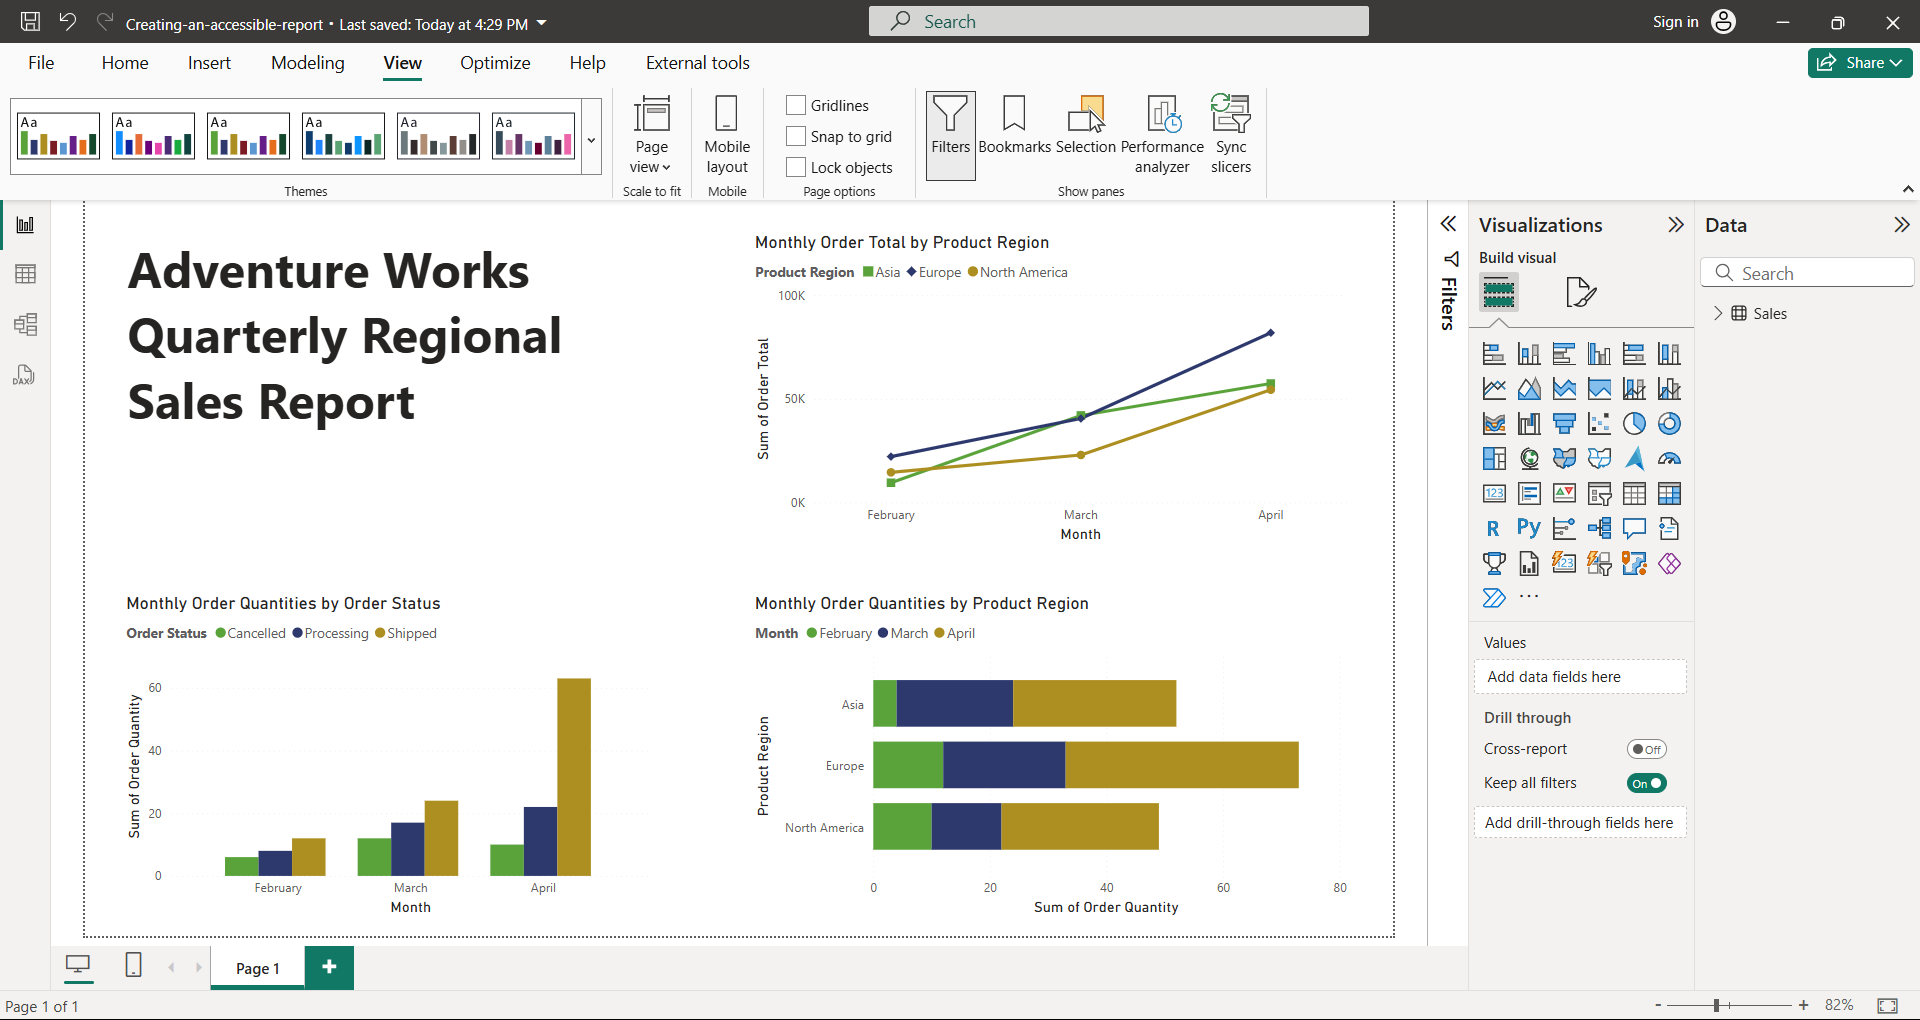

The page's visual inventory and layout, read from the dashboard file:
{"tool":"powerbi","page":{"name":"Page 1","canvas":[1280,720],"ordinal":0},"visuals":[{"type":"barChart","title":"Monthly Order Quantities by Product Region","fields":{"Category":["Sales.Product Region"],"Y":["Sum(Sales.Order Quantity)"],"Series":["Sales.Order Date.Variation.Date Hierarchy.Month"]},"box":[650,384,589,321],"z":3000},{"type":"clusteredColumnChart","title":"Monthly Order Quantities by Order Status","fields":{"Category":["Sales.Month"],"Y":["Sum(Sales.Order Quantity)"],"Series":["Sales.Order Status"]},"box":[36,384,522,321],"z":3125},{"type":"lineChart","title":"Monthly Order Total by Product Region","fields":{"Category":["Sales.Month"],"Y":["Sum(Sales.Order Total)"],"Series":["Sales.Product Region"]},"box":[650,30,589,309],"z":3250},{"type":"textbox","box":[36.2,29.8,522.2,309.5],"z":3500}]}

Visuals, with their boxes on the page's 1280x720 design canvas (x1, y1, x2, y2). These are canvas units, not pixel positions in the 1920x1020 screenshot, which may show the page scaled, cropped or inside an application window:
"Monthly Order Quantities by Product Region" barChart: 650:384:1239:705
"Monthly Order Quantities by Order Status" clusteredColumnChart: 36:384:558:705
"Monthly Order Total by Product Region" lineChart: 650:30:1239:339
textbox: 36:30:558:339
